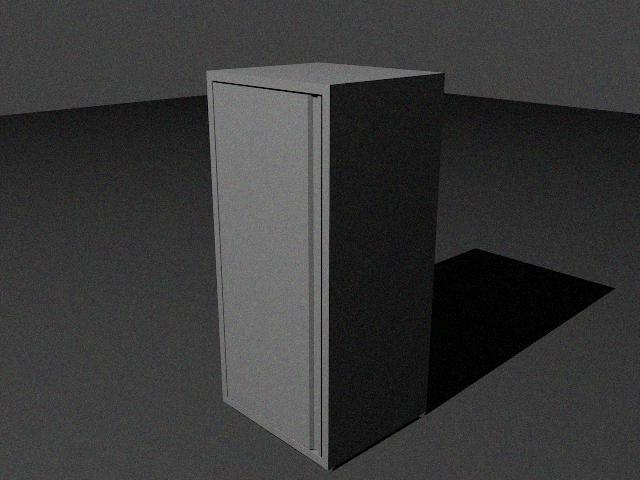cabinet_door: (220, 87, 322, 427)
